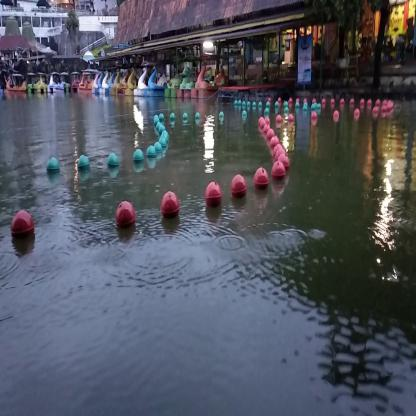green_buoy: (46, 158, 60, 173), (78, 156, 90, 169), (108, 154, 119, 166), (146, 147, 156, 158), (134, 150, 144, 160), (161, 132, 169, 141), (158, 139, 166, 148), (154, 143, 162, 152), (159, 126, 166, 134), (153, 115, 159, 124), (156, 122, 161, 130), (303, 103, 308, 110), (159, 114, 164, 121), (316, 103, 321, 109), (242, 112, 247, 118), (219, 112, 223, 119), (311, 105, 316, 110), (195, 113, 200, 118), (170, 114, 175, 119), (184, 113, 188, 119), (295, 102, 300, 106), (284, 108, 289, 112), (265, 109, 269, 114), (234, 100, 238, 104), (284, 102, 288, 106), (252, 102, 256, 106), (266, 103, 270, 107), (247, 102, 250, 106), (275, 102, 278, 106), (259, 103, 262, 107), (239, 100, 241, 103), (243, 102, 245, 104)
red_buoy: (11, 209, 34, 240), (115, 201, 136, 228), (162, 191, 180, 217), (206, 183, 221, 206), (254, 169, 269, 190), (232, 175, 246, 197), (272, 162, 285, 177), (278, 156, 289, 170), (276, 149, 286, 161), (273, 144, 282, 157), (270, 137, 280, 148), (267, 130, 275, 140), (333, 111, 339, 119), (258, 118, 264, 126), (260, 121, 266, 129), (263, 125, 269, 133), (276, 115, 281, 124), (288, 114, 294, 121), (354, 108, 359, 116), (265, 117, 270, 125), (373, 108, 378, 114), (312, 112, 317, 118), (368, 100, 372, 106), (376, 100, 380, 106), (322, 99, 326, 104), (340, 98, 344, 102), (350, 100, 354, 104), (361, 100, 364, 104), (332, 100, 335, 102)
